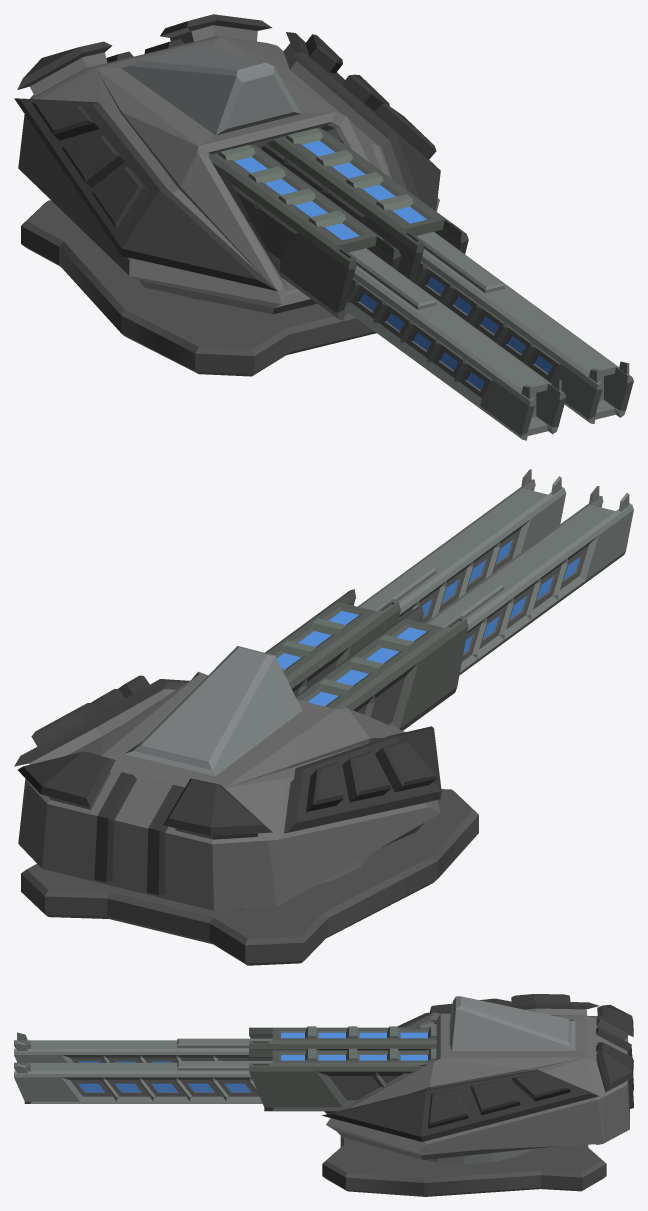
Rendered from model_polyfleet_battleship_railgun7.fbx.
3 renders of one model, top to bottom at view 1: azimuth 30°, elevation 25°; view 2: azimuth 150°, elevation 25°; view 3: azimuth 270°, elevation 25°, orthographic. The views are drawn at different scales.
Visible parts, largest first — view 1: model_weapon_rotate, model_railgun_barrel_front (×2), model_polyfleet_battleship_railgun7, model_railgun_barrel_left, model_railgun_barrel_right, emissive (×4); view 2: model_weapon_rotate, model_polyfleet_battleship_railgun7, model_railgun_barrel_front (×2), model_railgun_barrel_left, model_railgun_barrel_right, emissive (×3); view 3: model_weapon_rotate, model_railgun_barrel_front (×2), model_polyfleet_battleship_railgun7, model_railgun_barrel_right, model_railgun_barrel_left, emissive (×3).
Part boxes in pixels (<box>): model_weapon_rotate: <box>14,14,440,314</box>; model_railgun_barrel_front (×2): <box>344,231,633,440</box>; model_polyfleet_battleship_railgun7: <box>21,200,376,376</box>; model_railgun_barrel_left: <box>209,144,401,320</box>; model_railgun_barrel_right: <box>261,128,468,282</box>; emissive (×4): <box>234,140,552,389</box>; model_weapon_rotate: <box>14,646,441,910</box>; model_polyfleet_battleship_railgun7: <box>21,789,478,965</box>; model_railgun_barrel_front (×2): <box>358,469,633,675</box>; model_railgun_barrel_left: <box>295,605,468,730</box>; model_railgun_barrel_right: <box>265,589,400,695</box>; emissive (×3): <box>277,556,580,706</box>; model_weapon_rotate: <box>322,994,633,1164</box>; model_railgun_barrel_front (×2): <box>14,1032,272,1103</box>; model_polyfleet_battleship_railgun7: <box>322,1111,606,1196</box>; model_railgun_barrel_right: <box>249,1048,436,1111</box>; model_railgun_barrel_left: <box>249,1026,436,1050</box>; emissive (×3): <box>78,1032,427,1092</box>.
Bounding box in the file's own units: 258 × 165 × 636.
